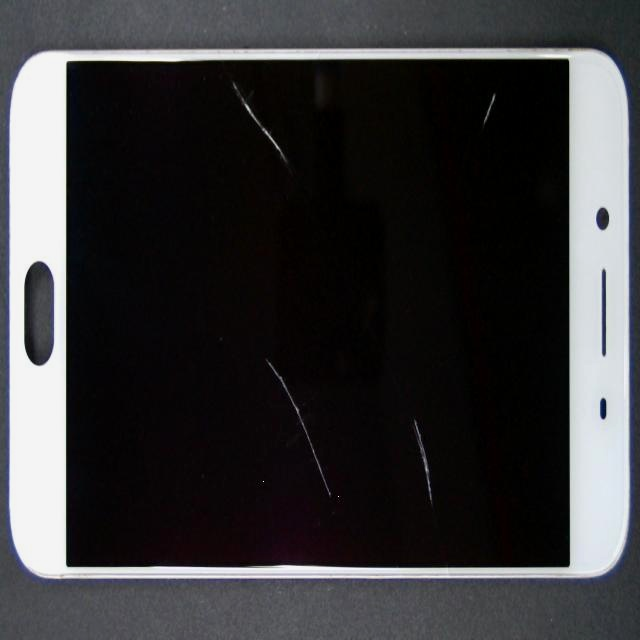scratch: (205, 164, 609, 634), (156, 262, 468, 640), (233, 16, 640, 170), (59, 0, 351, 175)
